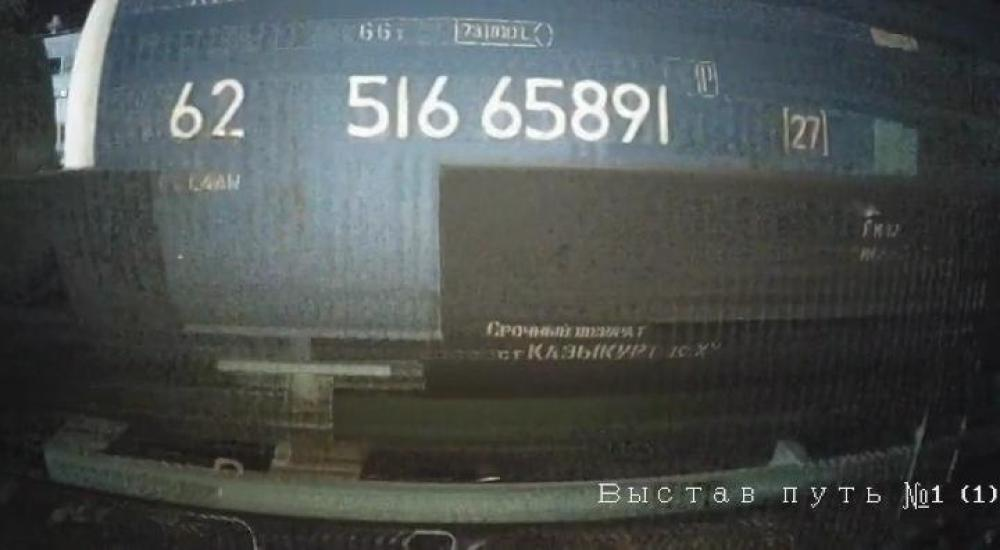Wagon-number: (341, 72, 677, 152)
